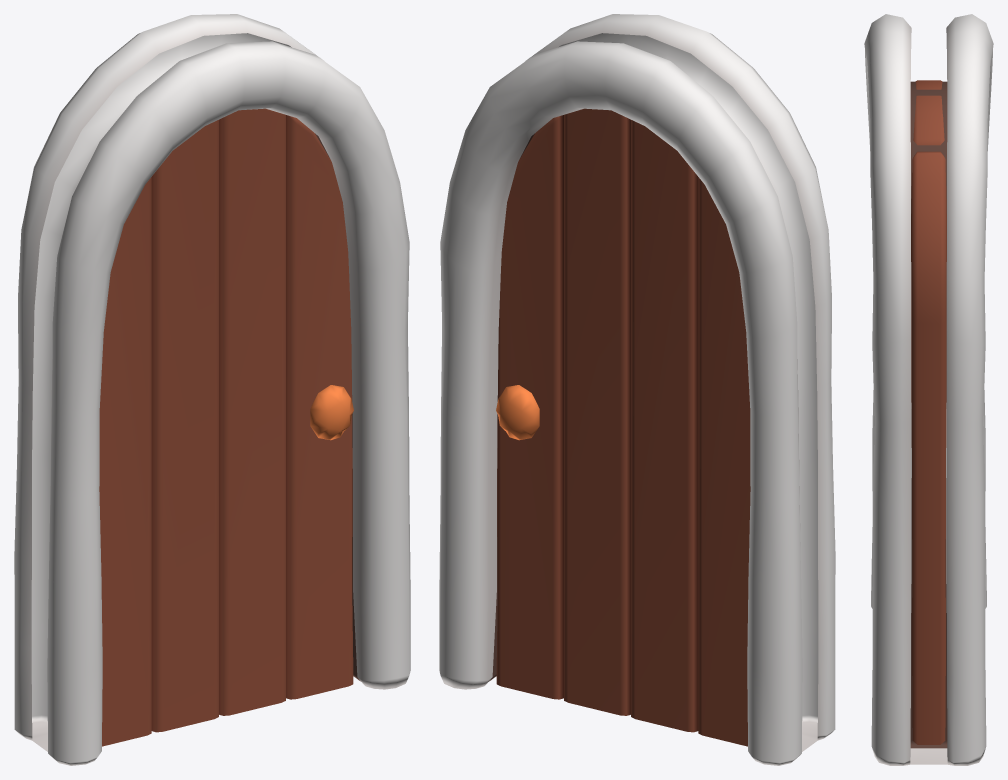
The model's file is porta_arco_natal.glb.
3 views of the same model, side by side, from view 1: azimuth 30°, elevation 25°; view 2: azimuth 150°, elevation 25°; view 3: azimuth 270°, elevation 25° (orthographic). The views are drawn at different scales.
Visible parts, largest first — view 1: porta_arco_natal; view 2: porta_arco_natal; view 3: porta_arco_natal.
Boxes of the visible parts, left/top/right/bottom form: porta_arco_natal: left=14, top=14, right=410, bottom=765; porta_arco_natal: left=439, top=14, right=835, bottom=765; porta_arco_natal: left=864, top=14, right=993, bottom=765.
Size of the model in its own units: 1.36 by 2.48 by 0.4427.
Materials: 2 (2 with a texture image).
